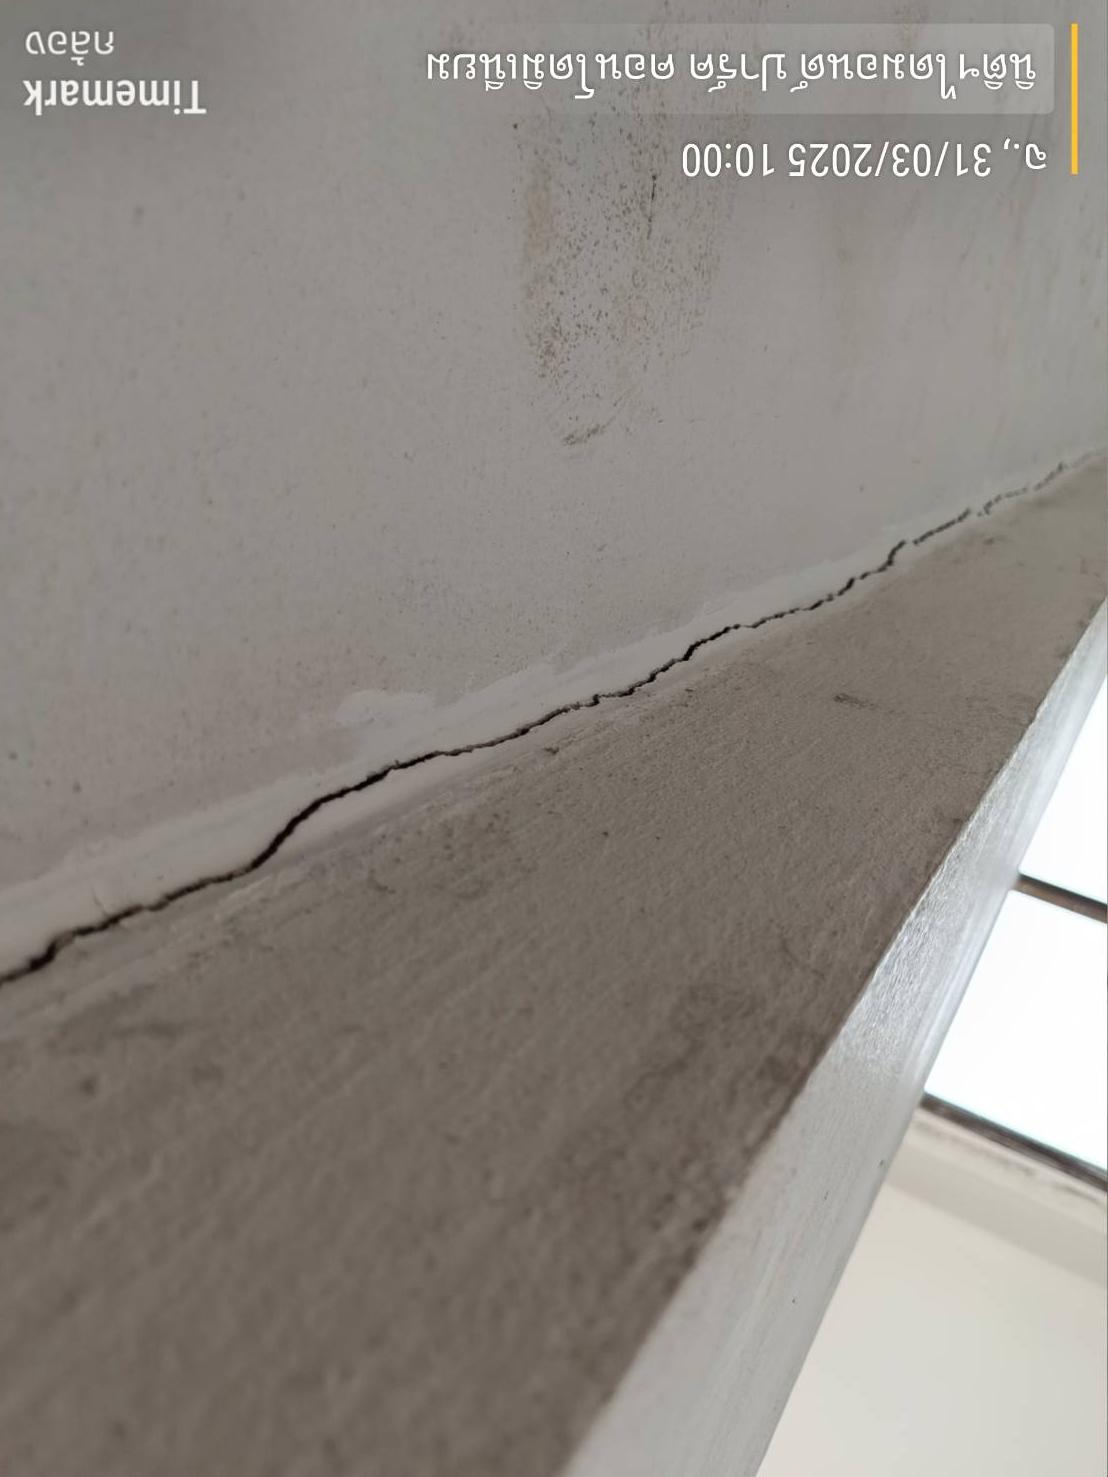Low: (13, 443, 1094, 990)
